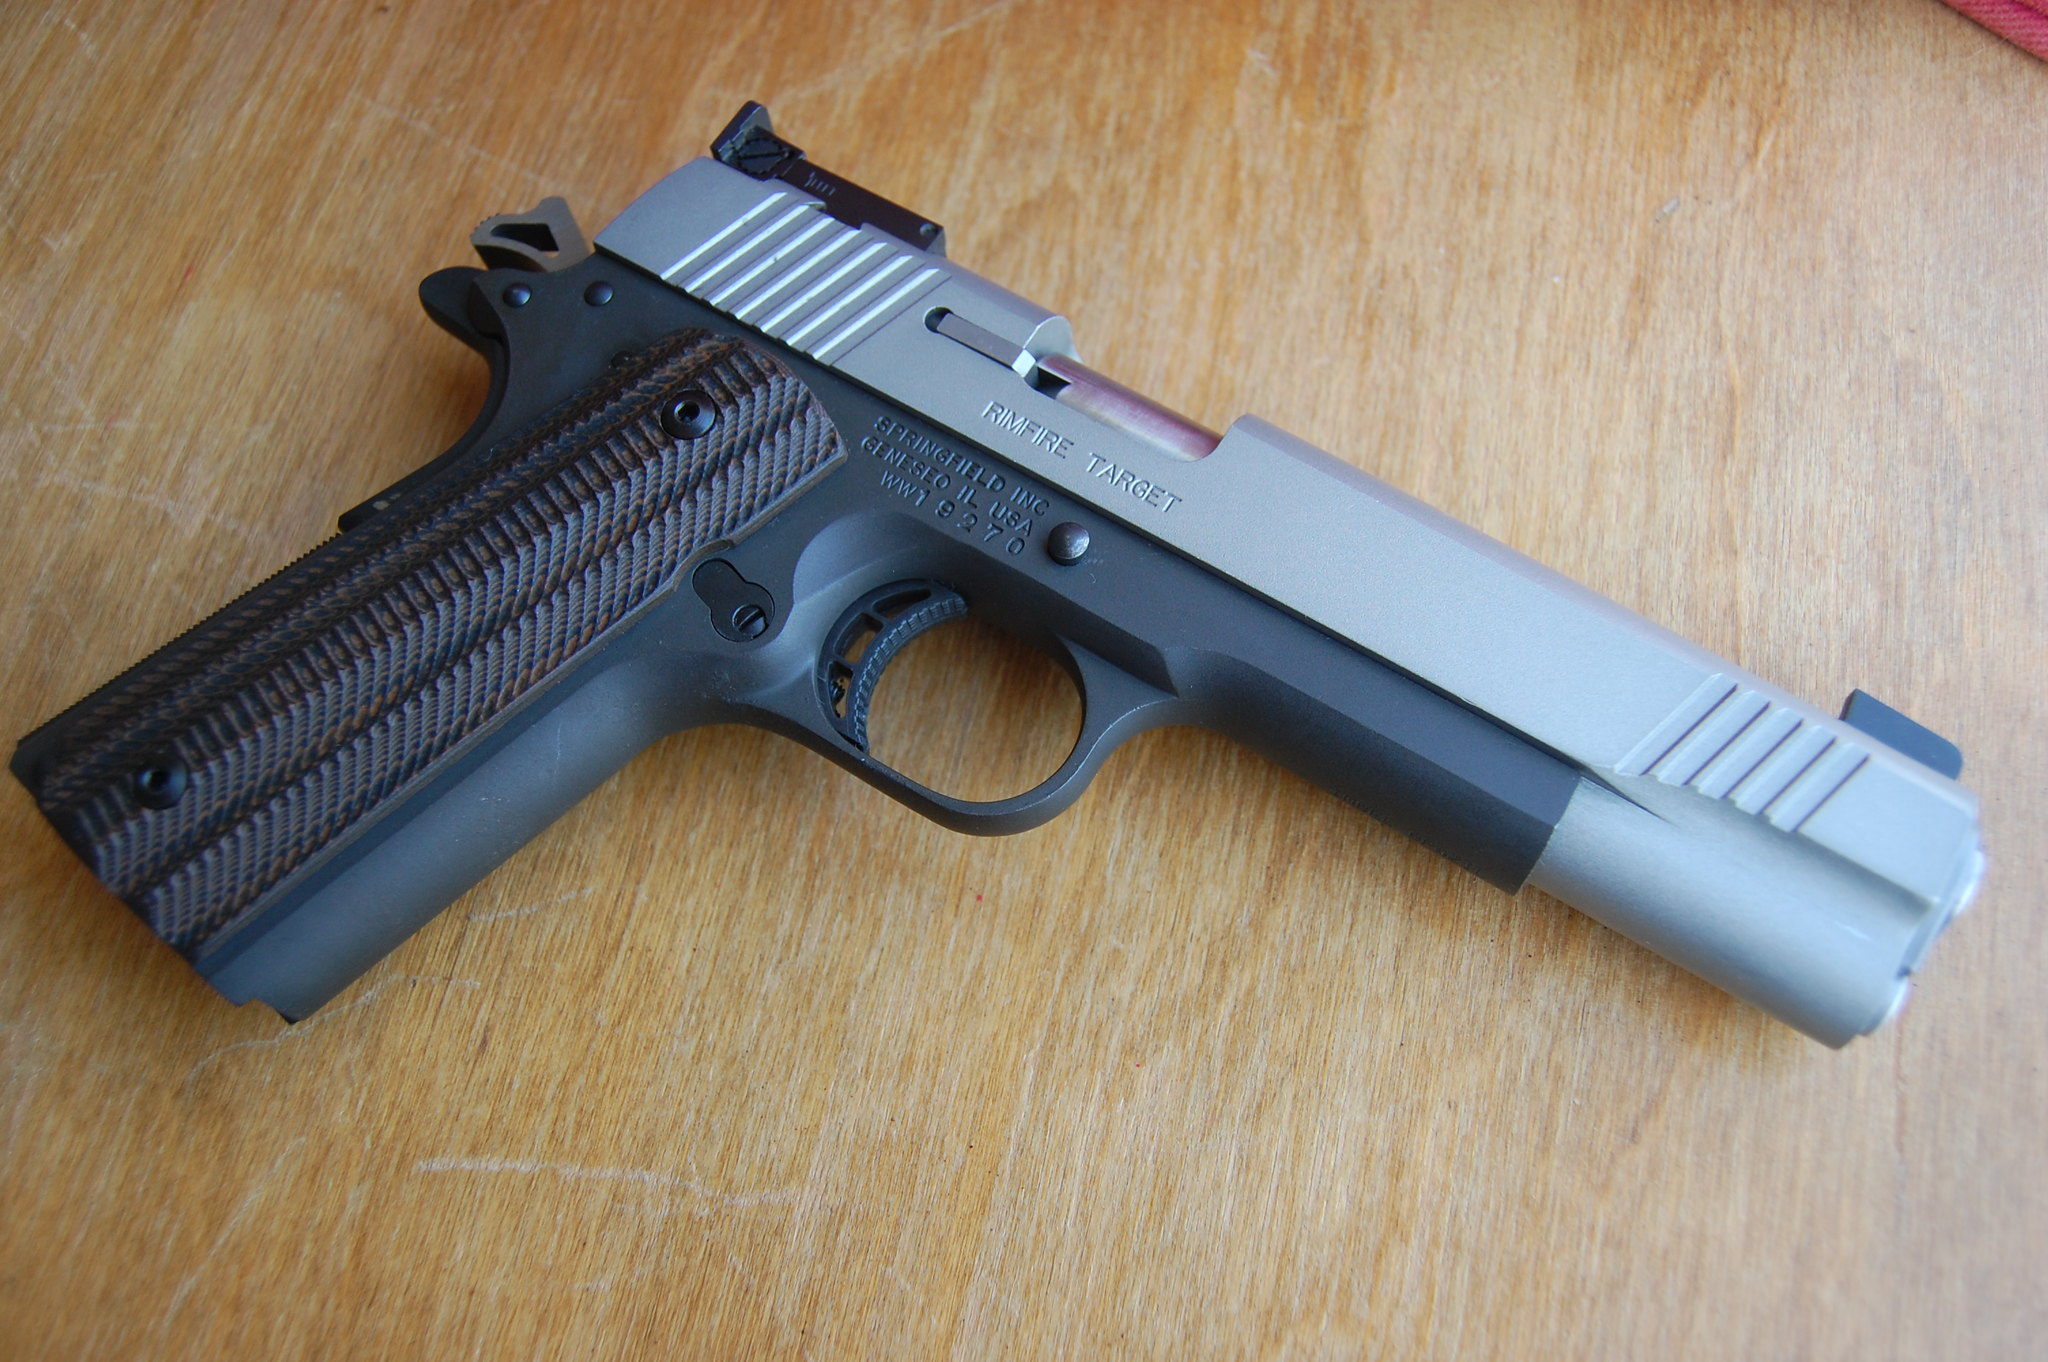gun: (6, 81, 2025, 1081)
